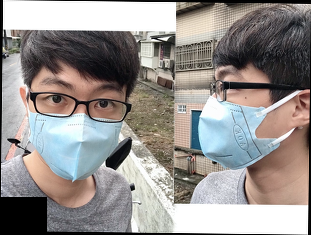with_mask: (26, 73, 126, 182), (194, 66, 280, 170)
